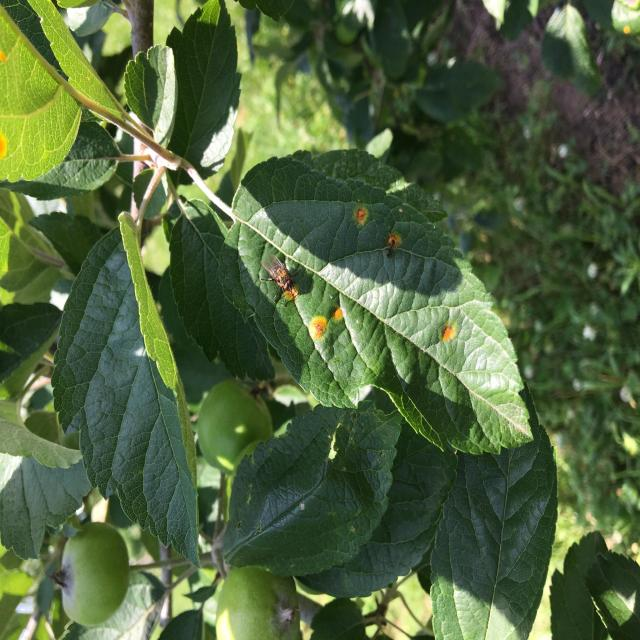Rust: (325, 292, 365, 340), (291, 305, 335, 344), (381, 220, 414, 266), (345, 186, 371, 240), (432, 318, 459, 355)
